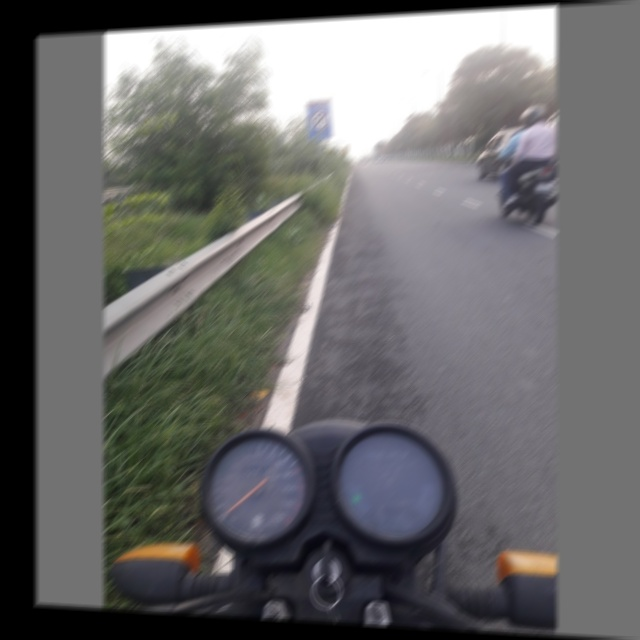U_Turn_Prohibited: (307, 102, 333, 137)
